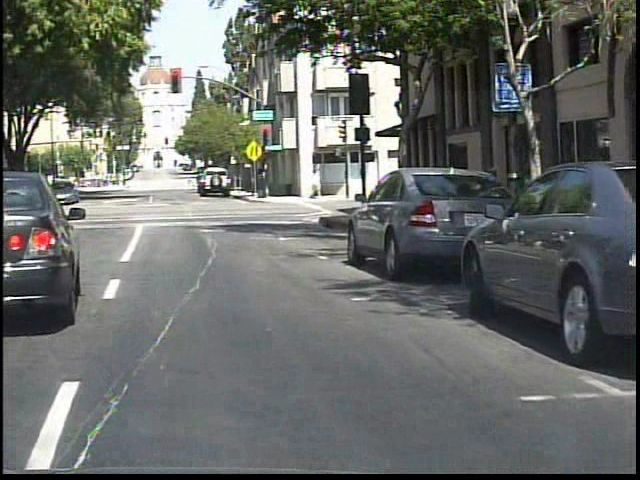person: (12, 172, 32, 211), (181, 175, 196, 192), (2, 175, 4, 212)
